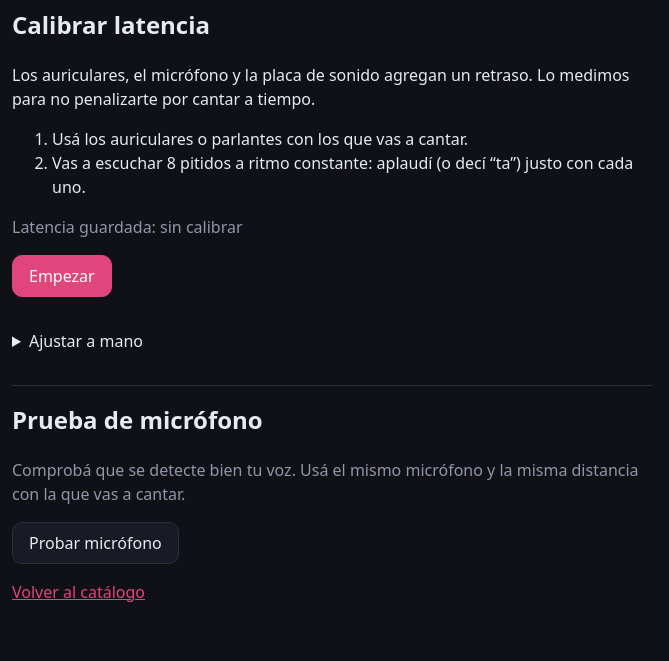
Test: CalibrationPage › accepts a manual value
Click the heading "Ajustar a mano" at {"x": 86, "y": 341}, box [29, 330, 143, 352]
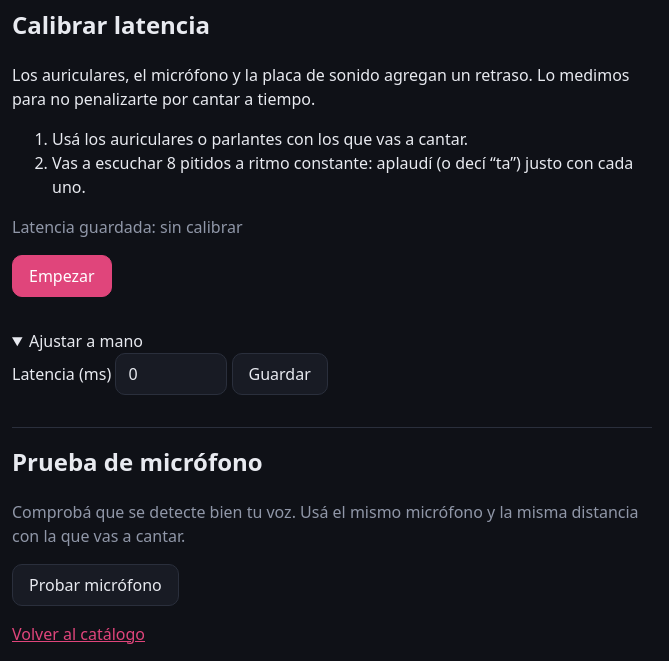
Replace the text in the number field labelled "Latencia (ms)" with "95" at {"x": 171, "y": 374}, box [115, 353, 227, 395]
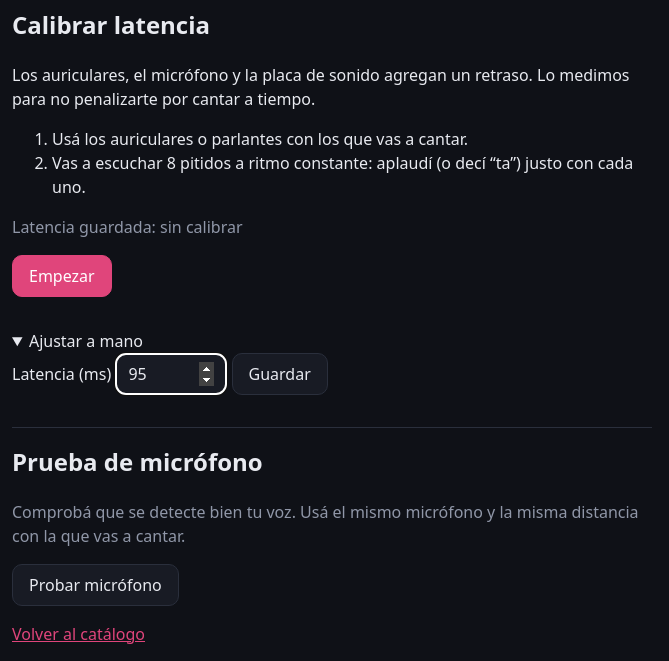
Click the button "Guardar" at {"x": 280, "y": 374}, box [232, 353, 328, 395]
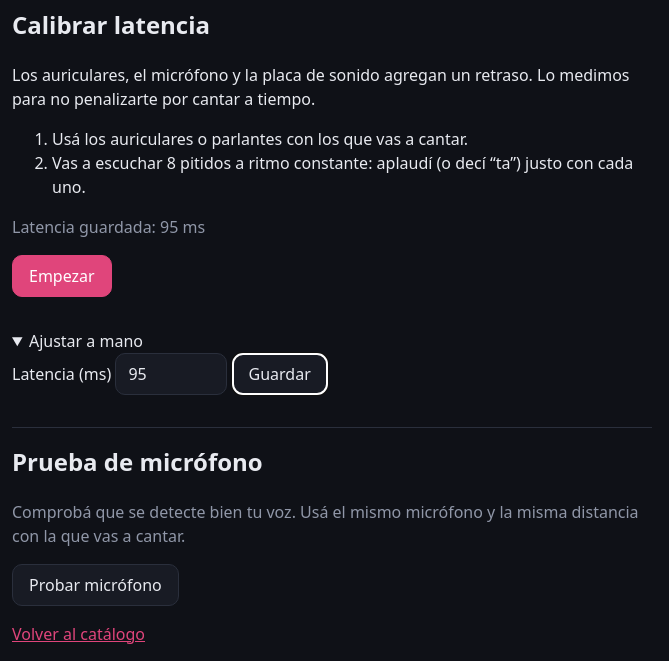
Result: the text "Latencia guardada: 95 ms" is shown at [12, 216, 205, 238]
